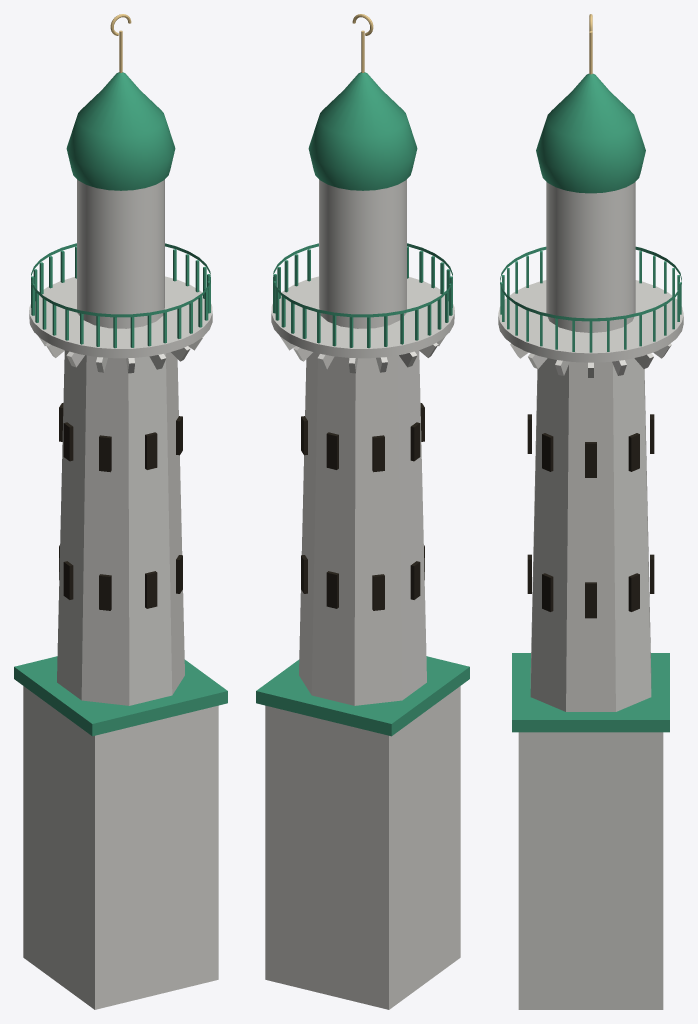
Rendered from SM_HijaziMinaret.fbx.
3 renders of one model, left to right at view 1: azimuth 30°, elevation 25°; view 2: azimuth 150°, elevation 25°; view 3: azimuth 270°, elevation 25°, orthographic.
Parts seen in each view (by area): view 1: SM_HijaziMinaret; view 2: SM_HijaziMinaret; view 3: SM_HijaziMinaret.
Boxes of the visible parts, x1=… form: SM_HijaziMinaret: x1=14, y1=14, x2=227, y2=1009; SM_HijaziMinaret: x1=256, y1=14, x2=469, y2=1009; SM_HijaziMinaret: x1=498, y1=14, x2=683, y2=1009.
Size of the model in its own units: 540 by 3095 by 540.
